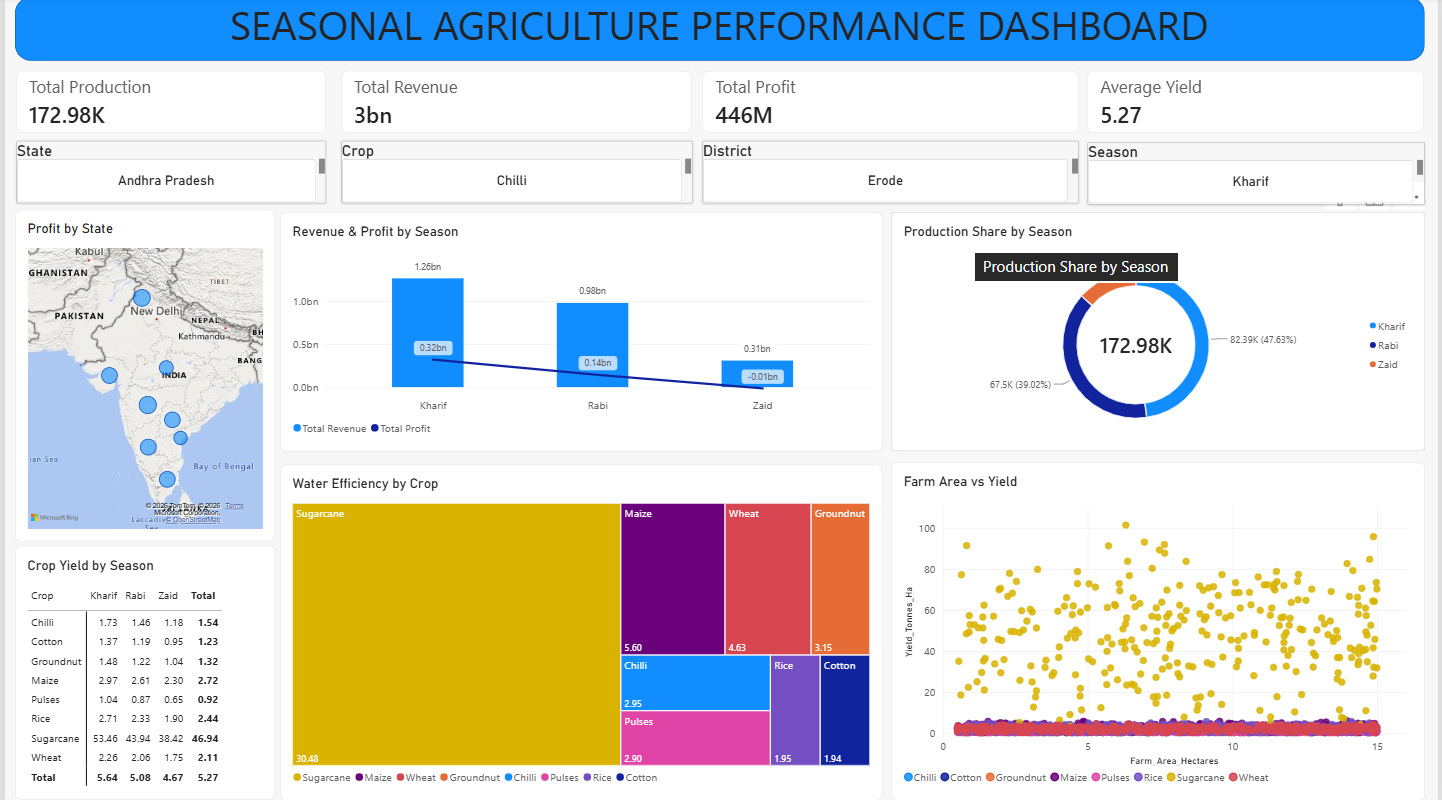

What the dashboard file says about the page in this screenshot:
{"tool":"powerbi","page":{"name":"Page 1","canvas":[1920,1080],"ordinal":0},"visuals":[{"type":"cardVisual","title":"Total Production","fields":{"Data":["seasonal_agriculture_performance_dataset.Total Production"]},"box":[15.7,99.4,415.1,83.7],"z":0},{"type":"cardVisual","fields":{"Data":["seasonal_agriculture_performance_dataset.Total Revenue"]},"box":[450,99.4,470.9,83.7],"z":1000},{"type":"cardVisual","fields":{"Data":["seasonal_agriculture_performance_dataset.Total Profit"]},"box":[934.9,99.4,504.1,83.7],"z":2000},{"type":"cardVisual","fields":{"Data":["seasonal_agriculture_performance_dataset.Average Yield"]},"box":[1451.2,99.4,451.7,83.7],"z":3000},{"type":"shape","box":[14,0,1889,85.5],"z":4000},{"type":"lineClusteredColumnComboChart","title":"Revenue & Profit by Season","fields":{"Y":["seasonal_agriculture_performance_dataset.Total Revenue"],"Category":["seasonal_agriculture_performance_dataset.Season"],"Y2":["seasonal_agriculture_performance_dataset.Total Profit"]},"box":[368,287.8,807.6,320.9],"z":5000},{"type":"textbox","box":[204.1,0,1519.2,85.5],"z":6000},{"type":"donutChart","title":"Production Share by Season","fields":{"Category":["seasonal_agriculture_performance_dataset.Season"],"Y":["seasonal_agriculture_performance_dataset.Total Production"]},"box":[1187.8,287.8,715.1,320.9],"z":7000},{"type":"scatterChart","title":"Farm Area vs Yield","fields":{"X":["seasonal_agriculture_performance_dataset.Farm_Area_Hectares"],"Y":["seasonal_agriculture_performance_dataset.Yield_Tonnes_Ha"],"Series":["seasonal_agriculture_performance_dataset.Crop"]},"box":[1187.8,622.7,715.1,453.5],"z":8000},{"type":"treemap","title":"Water Efficiency by Crop","fields":{"Group":["seasonal_agriculture_performance_dataset.Crop"],"Values":["seasonal_agriculture_performance_dataset.Average Water Efficiency"]},"box":[368,626.2,807.6,450],"z":9000},{"type":"map","title":"Profit by State","fields":{"Category":["seasonal_agriculture_performance_dataset.State"],"Size":["seasonal_agriculture_performance_dataset.Total Profit"]},"box":[14,284.3,348.8,444.8],"z":10000},{"type":"pivotTable","title":"Crop Yield by Season  ","fields":{"Rows":["seasonal_agriculture_performance_dataset.Crop"],"Columns":["seasonal_agriculture_performance_dataset.Season"],"Values":["seasonal_agriculture_performance_dataset.Average Yield"]},"box":[14,736,348.8,340.1],"z":11000},{"type":"advancedSlicerVisual","fields":{"Values":["seasonal_agriculture_performance_dataset.State"]},"box":[15.7,191.9,415.1,83.7],"z":12000},{"type":"advancedSlicerVisual","fields":{"Values":["seasonal_agriculture_performance_dataset.District"]},"box":[934.9,191.9,504.1,83.7],"z":13000},{"type":"advancedSlicerVisual","fields":{"Values":["seasonal_agriculture_performance_dataset.Crop"]},"box":[450,191.9,470.9,83.7],"z":14000},{"type":"advancedSlicerVisual","fields":{"Values":["seasonal_agriculture_performance_dataset.Season"]},"box":[1451.2,193.6,451.7,83.7],"z":15000}]}

Visuals, with their boxes in screenshot pixels (x1, y1, x2, y2), scaled from the page's 1920x1080 canvas onto the 1442x800 screenshot:
"Total Production" cardVisual: (12,74,324,136)
cardVisual - seasonal_agriculture_performance_dataset.Total Revenue: (338,74,692,136)
cardVisual - seasonal_agriculture_performance_dataset.Total Profit: (702,74,1081,136)
cardVisual - seasonal_agriculture_performance_dataset.Average Yield: (1090,74,1429,136)
shape: (11,0,1429,63)
"Revenue & Profit by Season" lineClusteredColumnComboChart: (276,213,883,451)
textbox: (153,0,1294,63)
"Production Share by Season" donutChart: (892,213,1429,451)
"Farm Area vs Yield" scatterChart: (892,461,1429,797)
"Water Efficiency by Crop" treemap: (276,464,883,797)
"Profit by State" map: (11,211,272,540)
"Crop Yield by Season  " pivotTable: (11,545,272,797)
advancedSlicerVisual - seasonal_agriculture_performance_dataset.State: (12,142,324,204)
advancedSlicerVisual - seasonal_agriculture_performance_dataset.District: (702,142,1081,204)
advancedSlicerVisual - seasonal_agriculture_performance_dataset.Crop: (338,142,692,204)
advancedSlicerVisual - seasonal_agriculture_performance_dataset.Season: (1090,143,1429,205)
